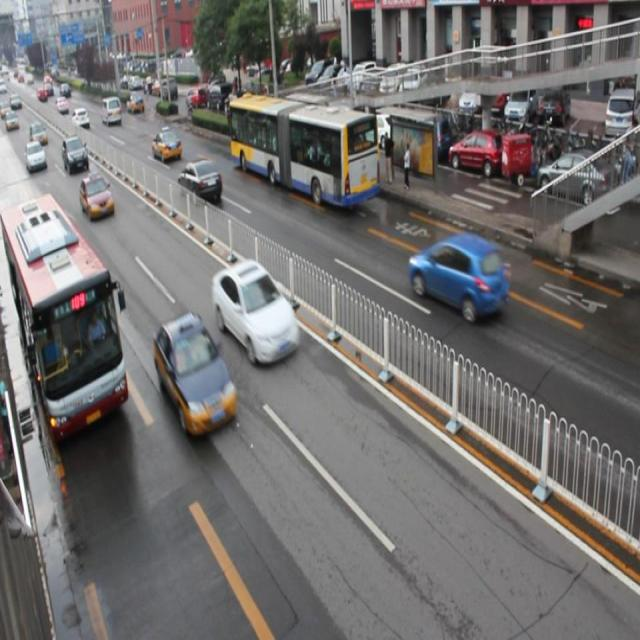car: (153, 314, 238, 439), (212, 263, 300, 368), (408, 234, 508, 322), (178, 158, 222, 204), (80, 171, 114, 221), (151, 125, 182, 161)
van: (1, 196, 129, 443), (229, 91, 378, 209)
